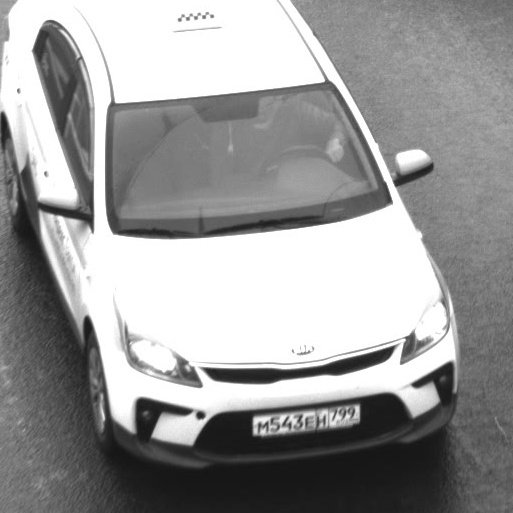plate: (240, 391, 371, 445)
